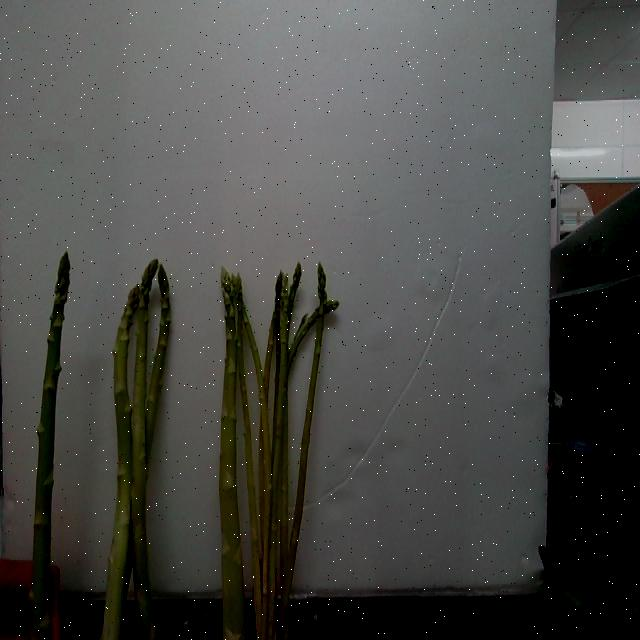aspargus: (32, 254, 72, 640), (101, 283, 141, 640)
